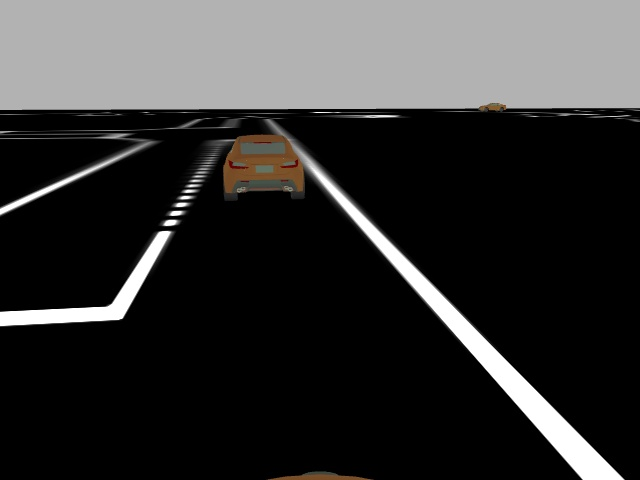obstacle_car: (220, 133, 309, 204)
